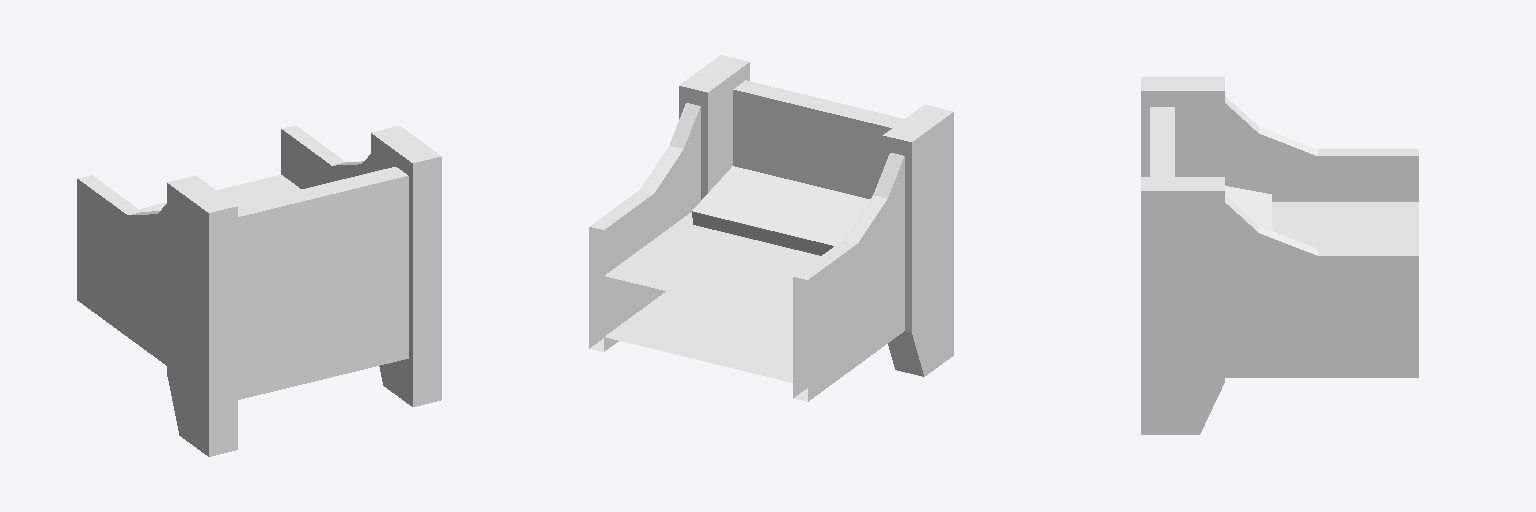
File: nordic_bed_head.obj
3 renders of one model, left to right at view 1: azimuth 30°, elevation 25°; view 2: azimuth 150°, elevation 25°; view 3: azimuth 270°, elevation 25°, orthographic.
Visible parts, largest first — view 1: head_board, head_leg_left, head_side_right, head_leg_right, head_side_left, bed_head; view 2: bed_head, head_side_right, head_leg_left, head_board, head_side_left, pillow, head_leg_right; view 3: head_side_left, head_leg_right, head_side_right, head_leg_left, bed_head, head_board, pillow.
Part boxes in pixels (x1,y1,x2,y2): head_board: (237,167,408,399); head_leg_left: (167,175,237,456); head_side_right: (77,175,166,365); head_leg_right: (371,126,441,406); head_side_left: (281,125,370,188); bed_head: (139,175,300,211); bed_head: (605,212,820,382); head_side_right: (793,153,904,401); head_leg_left: (883,105,953,376); head_board: (733,80,903,198); head_side_left: (589,103,700,351); pillow: (692,166,869,255); head_leg_right: (679,55,749,199); head_side_left: (1225,196,1418,377); head_leg_right: (1141,177,1224,434); head_side_right: (1225,96,1418,201); head_leg_left: (1141,77,1224,176); bed_head: (1272,202,1418,248); head_board: (1150,107,1174,176); pillow: (1225,186,1271,230).
Size of the model in its own units: 1 by 1 by 1.03.